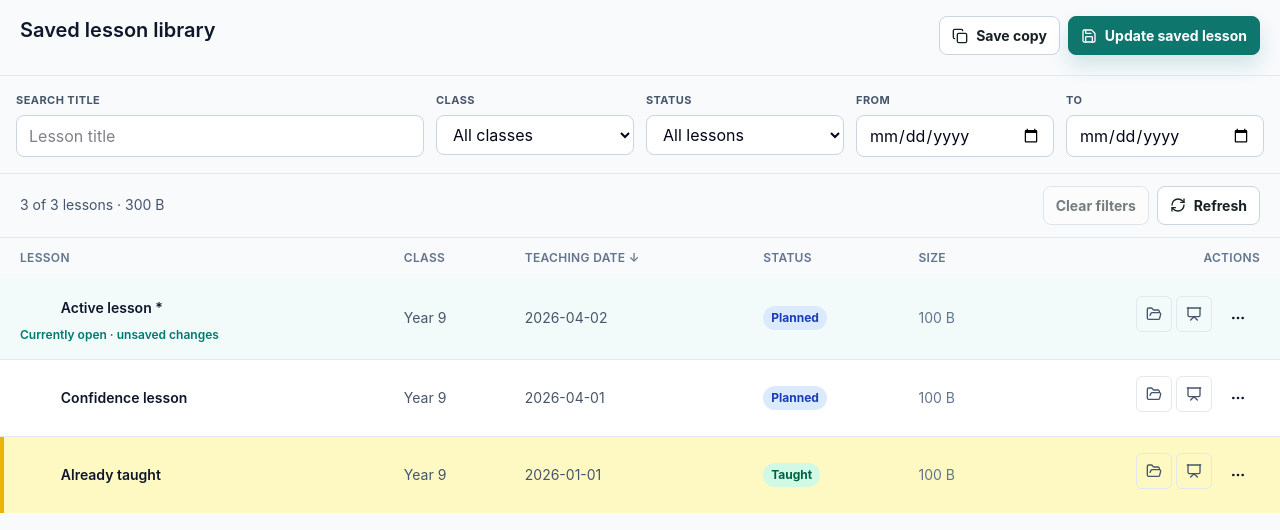
SavedLessonLibrary production actions › clears every saved-lesson filter in one action and restores newest-first order
Expected: the text "Confidence lesson" is shown, [61,388,187,408]
Expected: the button "Clear filters" is disabled, [1043,186,1149,224]
In the field labelled "Search title": (220, 136) [16,114,424,156], type "already"
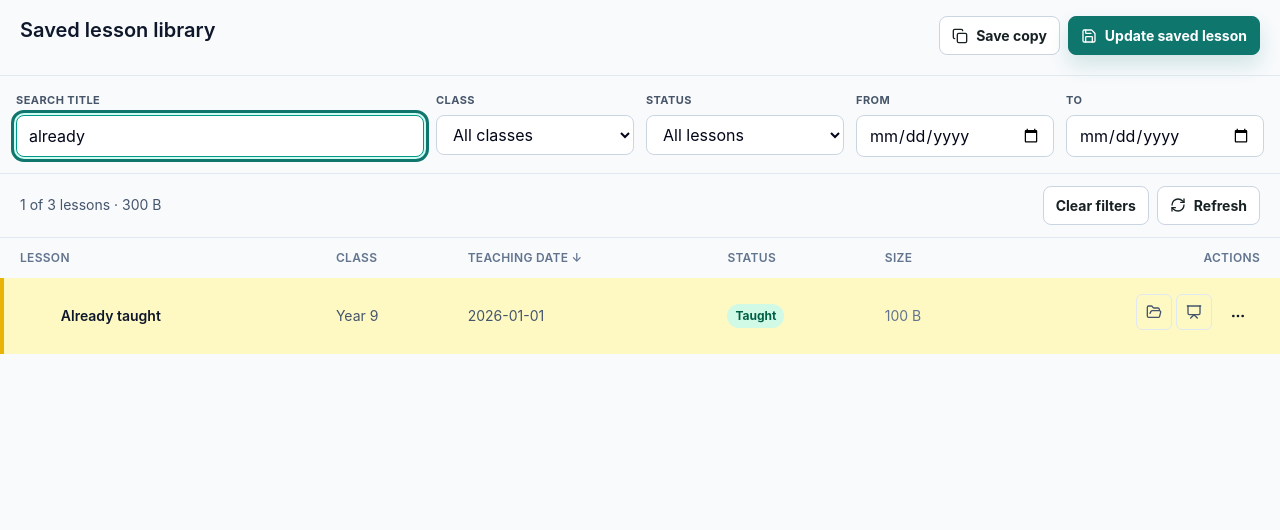
Select "Year 9" in the dropdown labelled "Class": (535, 134) [436,114,634,154]
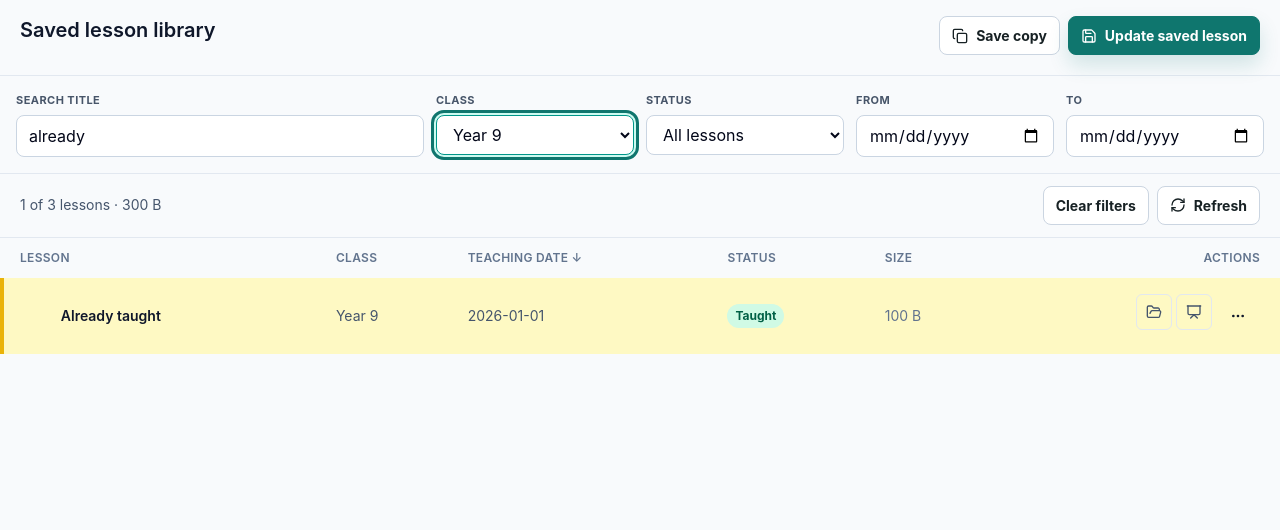
Select "Taught" in the dropdown labelled "Status": (745, 134) [646,114,844,154]
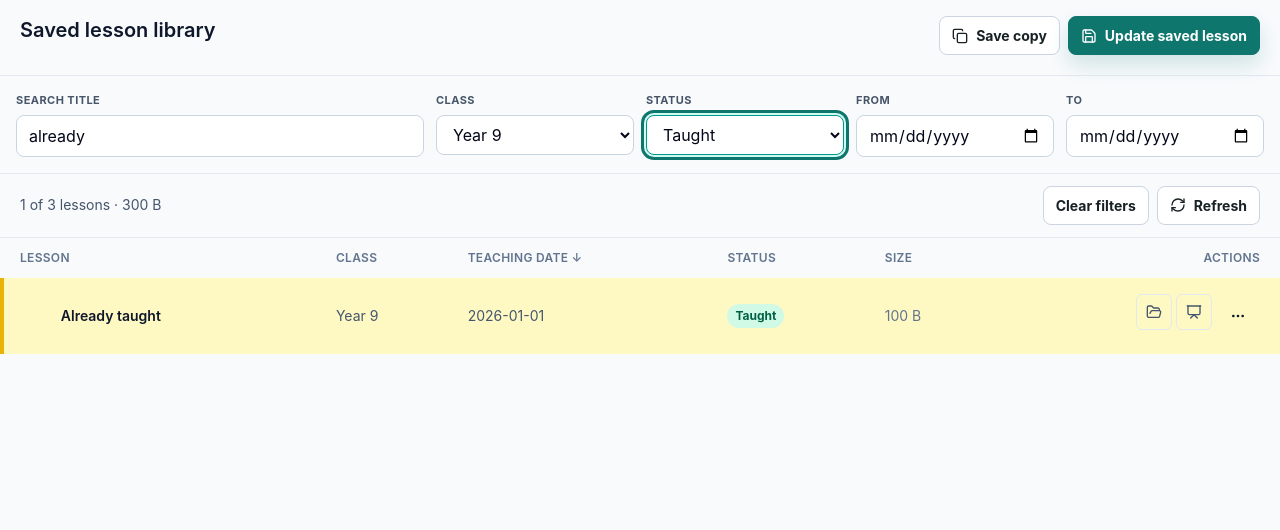
In the date field labelled "From": (955, 136) [856,114,1054,156], type "2026-01-01"
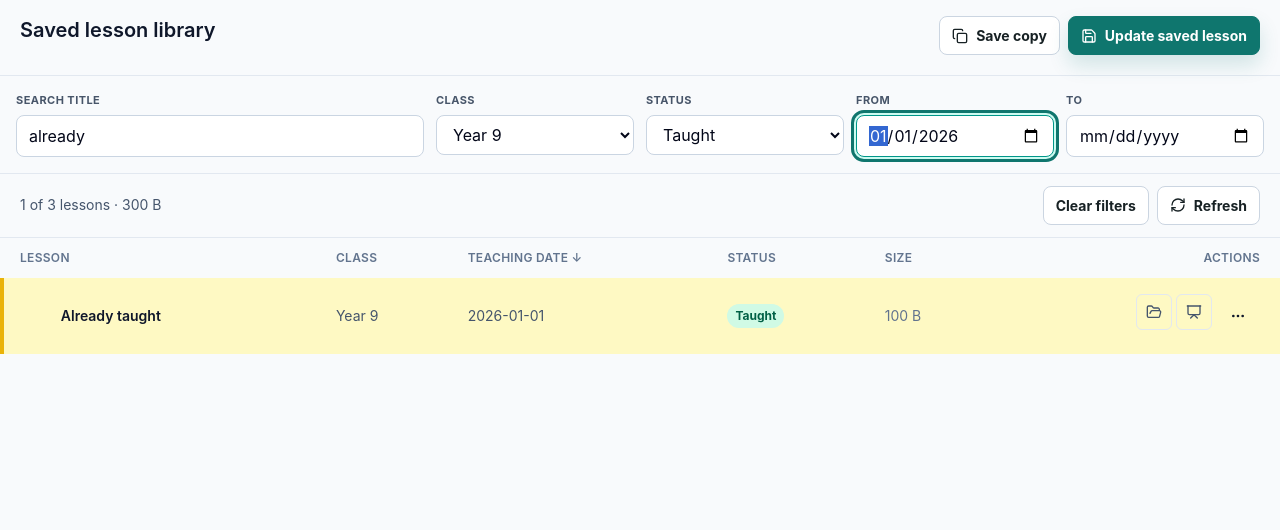
In the date field labelled "To": (1165, 136) [1066,114,1264,156], type "2026-01-01"
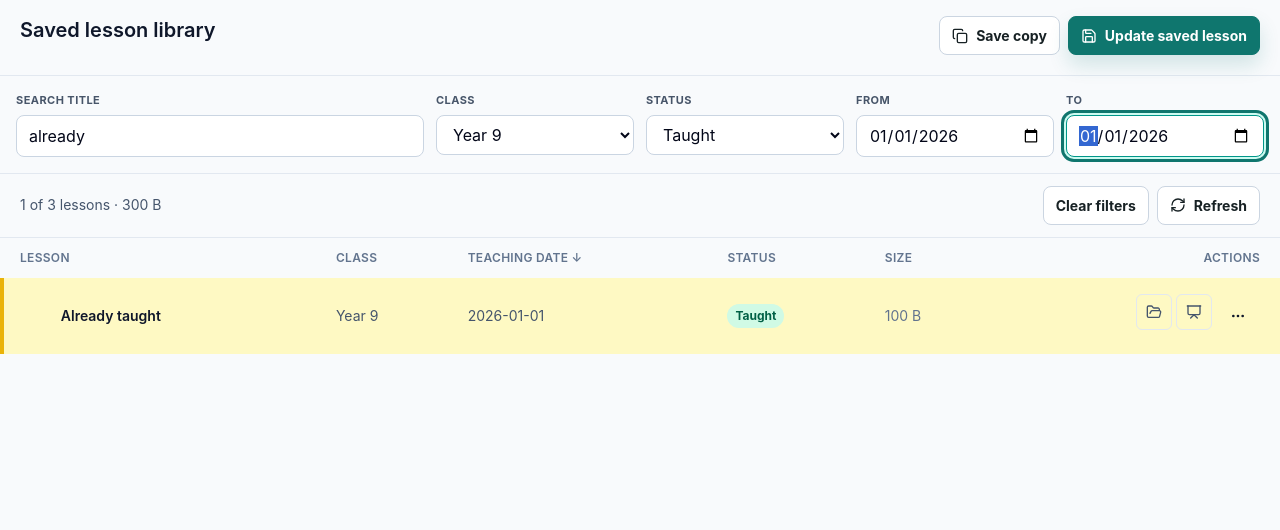
Expected: the text "Already taught" is shown, [61,306,161,326]
Expected: the text "1 of 3 lessons · 300 B" is shown, [20,195,162,215]
Expected: the button "Clear filters" is enabled
Click the button "Clear filters": click(1096, 205) [1043,186,1149,224]
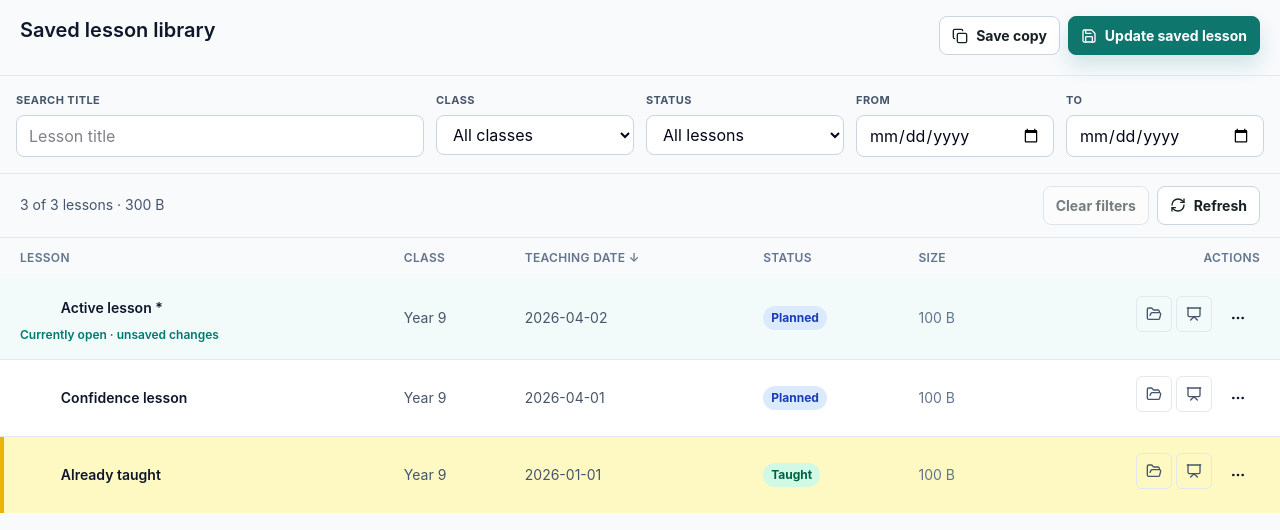
Expected: the field labelled "Search title" is empty, [16,114,424,156]
Expected: the date field labelled "From" is empty, [856,114,1054,156]
Expected: the date field labelled "To" is empty, [1066,114,1264,156]
